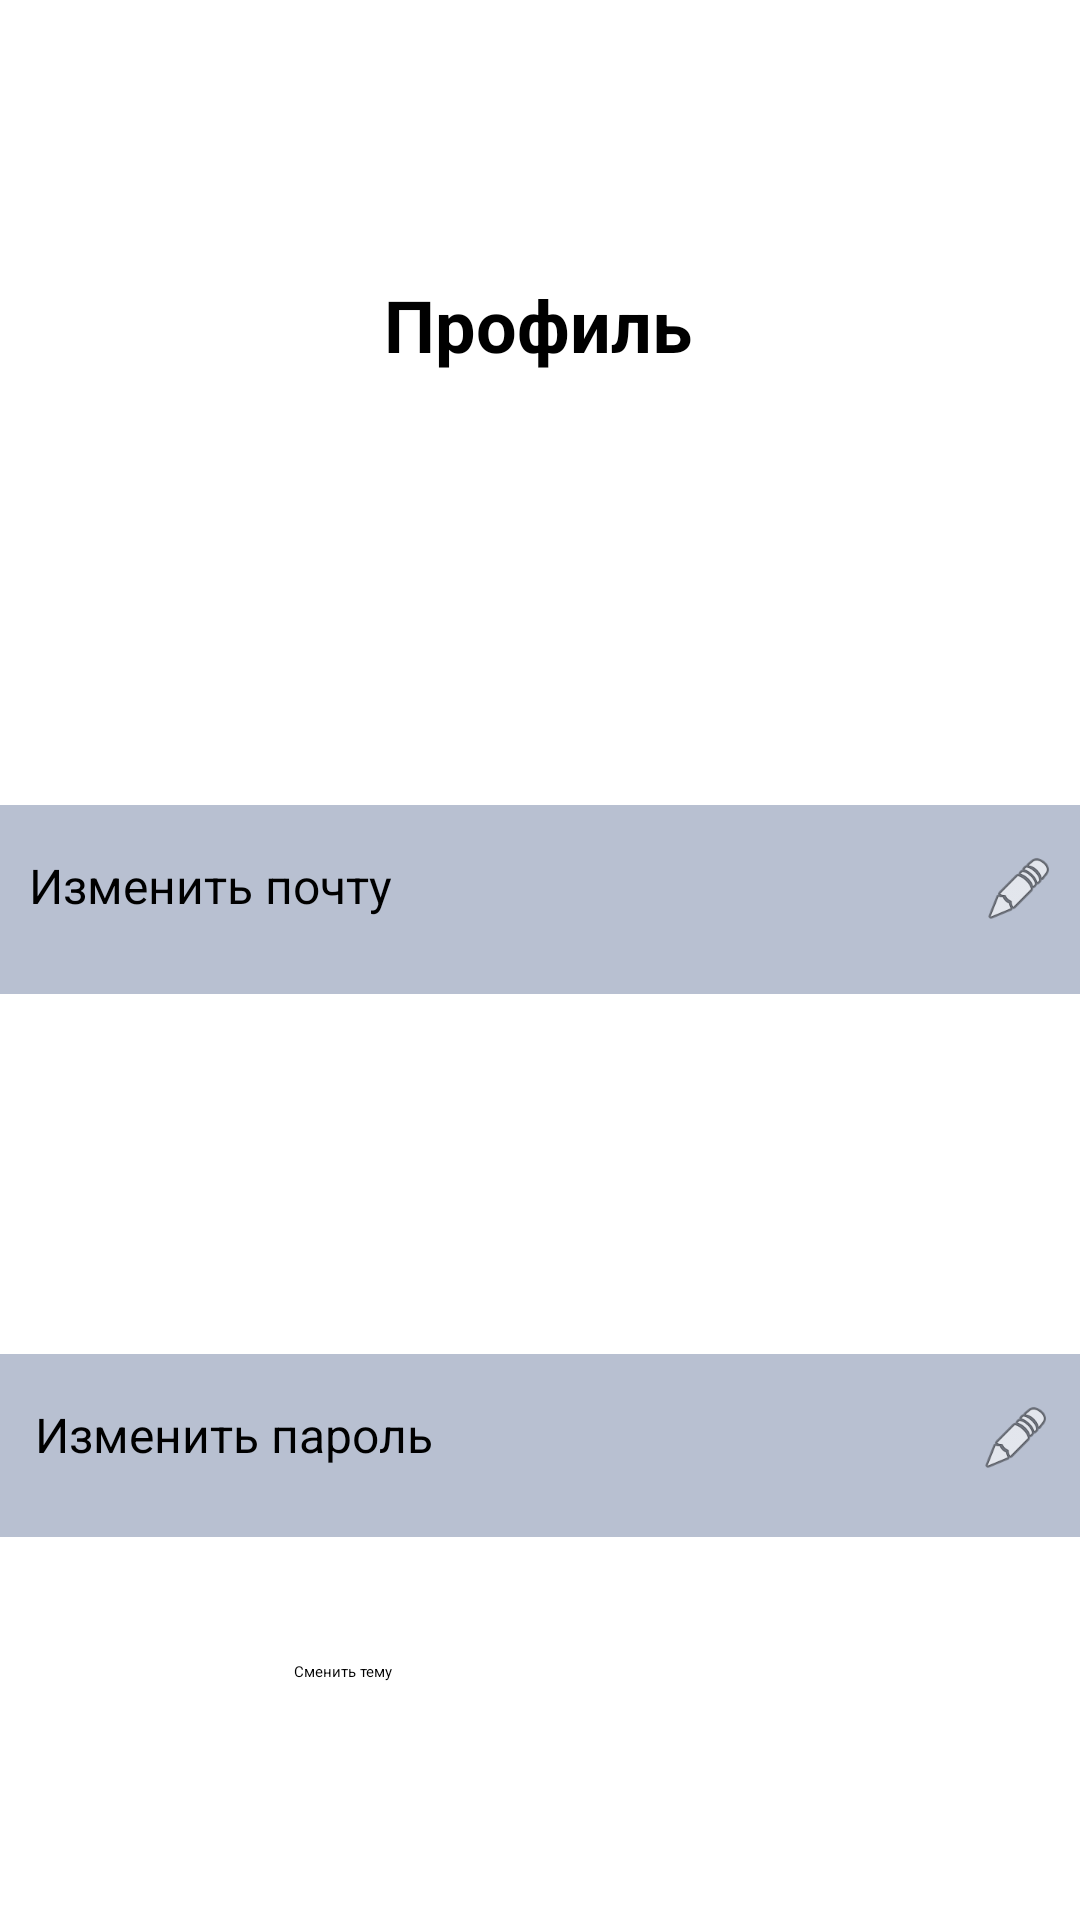

Locate icon controls on the screen. Image size 1080 × 1920, boxes as (x1,y1,x2,y2).
edit: (988,858,1049,919), (985,1407,1046,1468)
